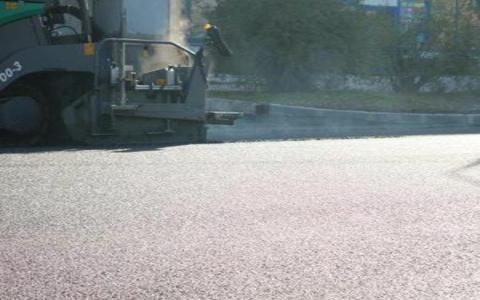Proper road: (21, 151, 427, 281)
